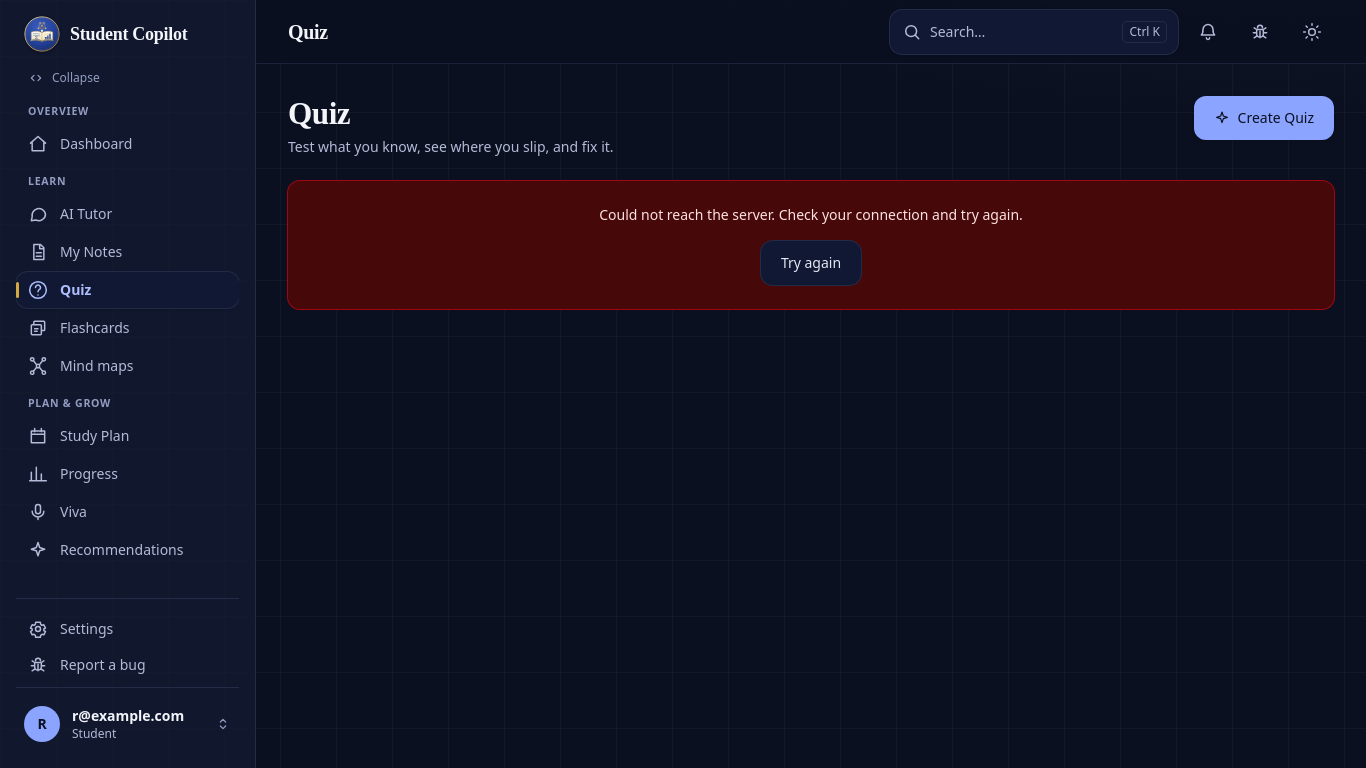
it: quiz home › shows an error with Try again, and recovers
The width and height of the screenshot is (1366, 768).
Expected: the text "Could not reach the server" is shown, [599,205,1023,224]
Click the button "Try again".
click(811, 263)  # box [761,241,861,285]
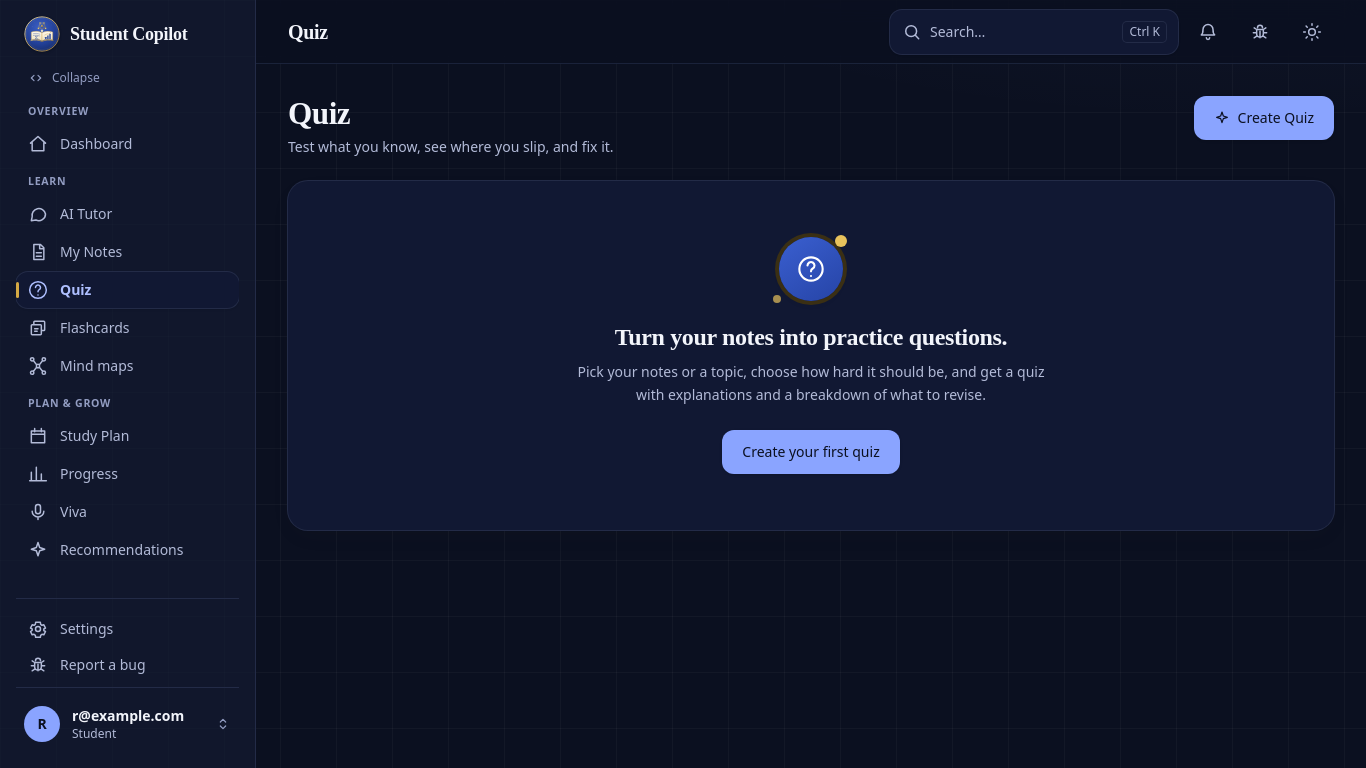
Expected: the heading "Turn your notes into practice questions." is shown, [615,321,1007,353]
